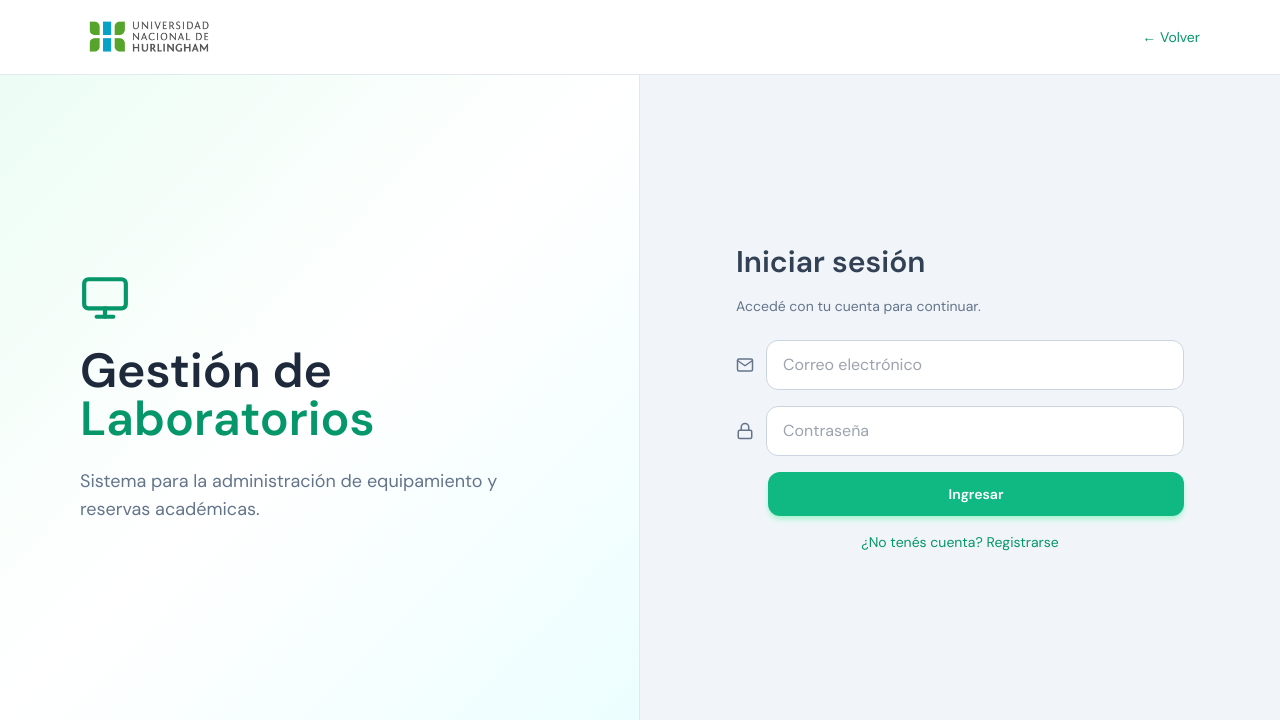
Login Component › muestra un error si se intenta enviar con campos vacíos
The width and height of the screenshot is (1280, 720).
Click the button "Ingresar" at (976, 494), box [768,472,1184,516]
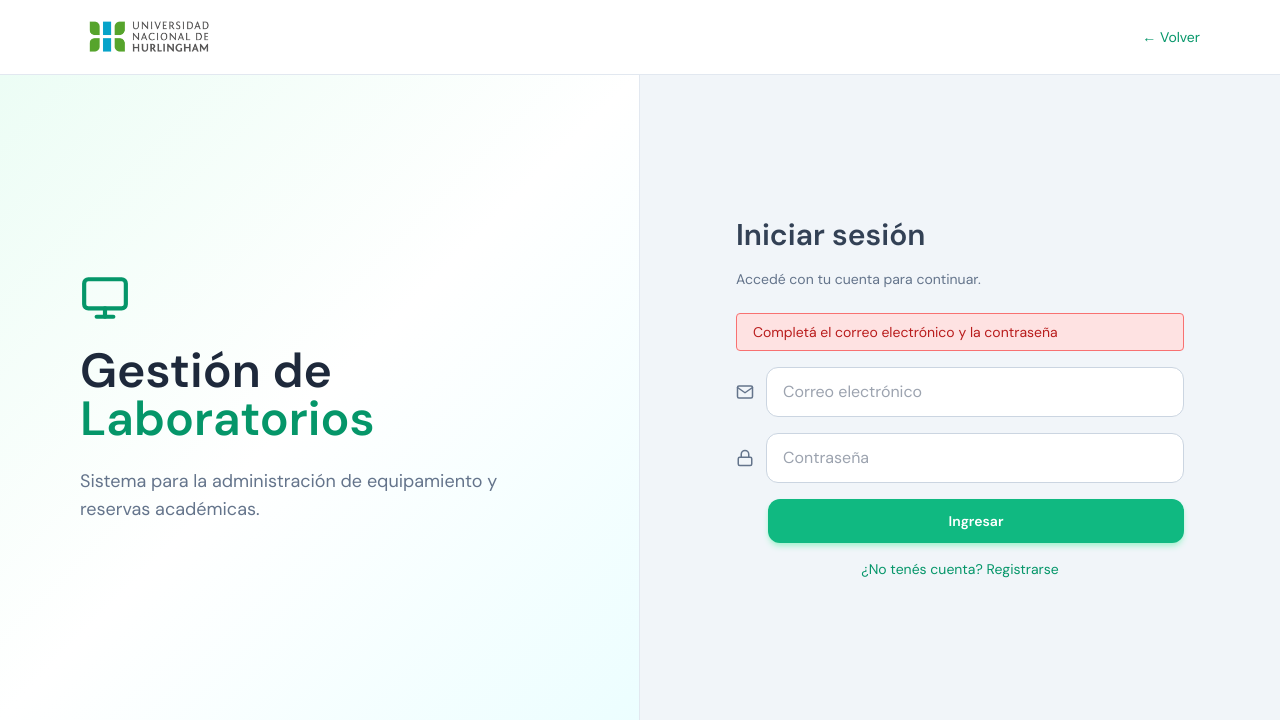
Now the text "Completá el correo electrónico y la contraseña" is shown, box [736,312,1184,350]
